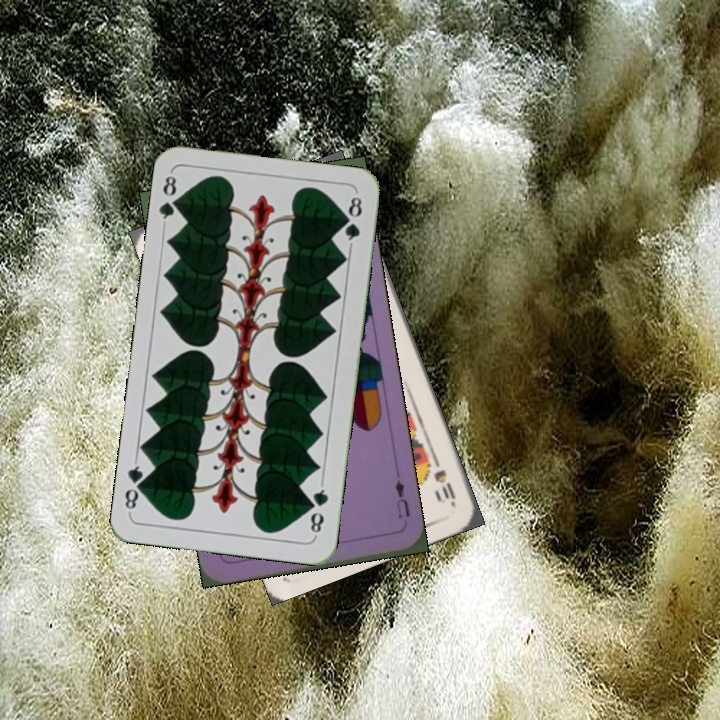EU: (391, 476, 413, 521)
G8: (155, 171, 184, 228), (306, 480, 331, 539)
S10: (428, 451, 458, 508)
